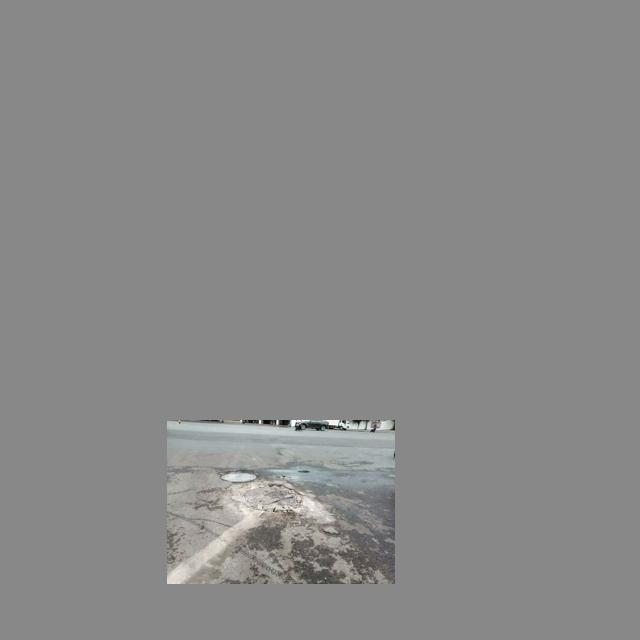circle: (232, 480, 320, 526)
